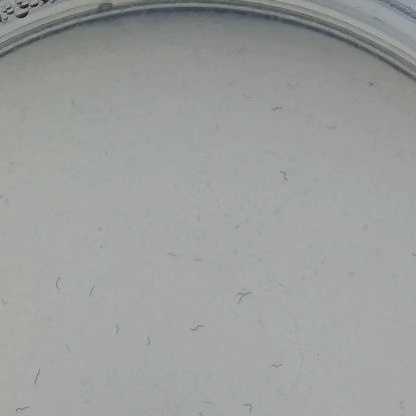worm: (22, 365, 53, 386), (160, 245, 189, 266), (50, 273, 74, 292), (13, 398, 38, 415), (185, 319, 206, 339), (231, 289, 252, 309), (388, 395, 408, 416), (191, 205, 212, 225), (273, 163, 288, 190), (276, 277, 299, 292), (192, 249, 213, 265), (266, 102, 288, 117), (85, 279, 103, 297), (240, 399, 257, 416), (140, 330, 153, 352), (322, 120, 340, 134), (199, 395, 218, 408), (267, 358, 287, 370), (62, 340, 77, 356), (0, 293, 14, 309), (110, 319, 120, 340)
